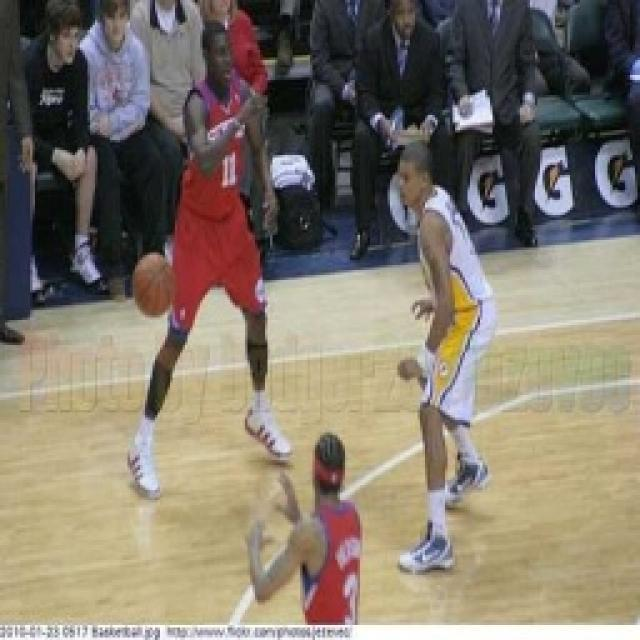rim: (119, 248, 183, 320)
